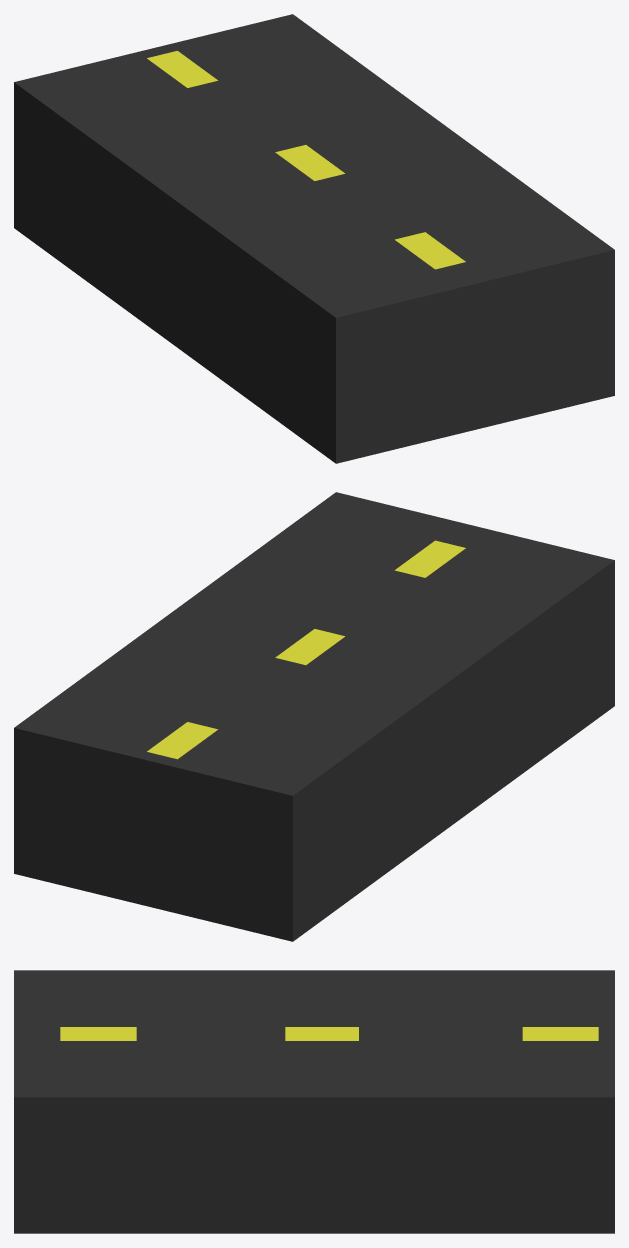
The model's file is Calle.fbx.
3 renders of one model, top to bottom at view 1: azimuth 30°, elevation 25°; view 2: azimuth 150°, elevation 25°; view 3: azimuth 270°, elevation 25°, orthographic. The views are drawn at different scales.
Parts seen in each view (by area): view 1: Cube.001; view 2: Cube.001; view 3: Cube.001.
Part boxes in pixels (x1,y1,x2,y2): Cube.001: (14,14,614,463); Cube.001: (14,492,614,941); Cube.001: (14,970,614,1233).
Size of the model in its own units: 2000 by 1000 by 4000.
